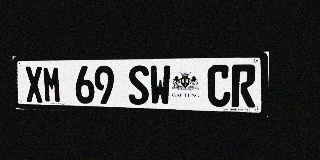6: (75, 66, 95, 104)
9: (94, 66, 115, 104)
C: (207, 65, 231, 107)
M: (42, 66, 62, 103)
R: (231, 64, 256, 108)
S: (128, 65, 149, 105)
W: (149, 65, 171, 106)
X: (25, 66, 44, 103)
